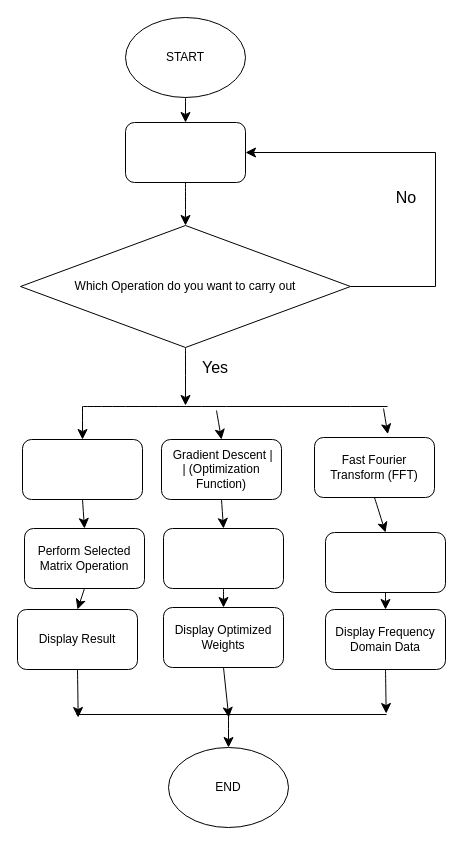
The diagram is 463 pixels wide and 845 high, and some of its shapes have lost their labels. Here are the shapes that lost their labels. From the top down, the box of each, then its label:
(124, 122, 246, 182): Select Operation Type
(22, 438, 142, 500): Matrix Operations
(162, 528, 284, 588): Perform Gradient Descent Iterations
(324, 532, 446, 592): Perform FFT Transformation
